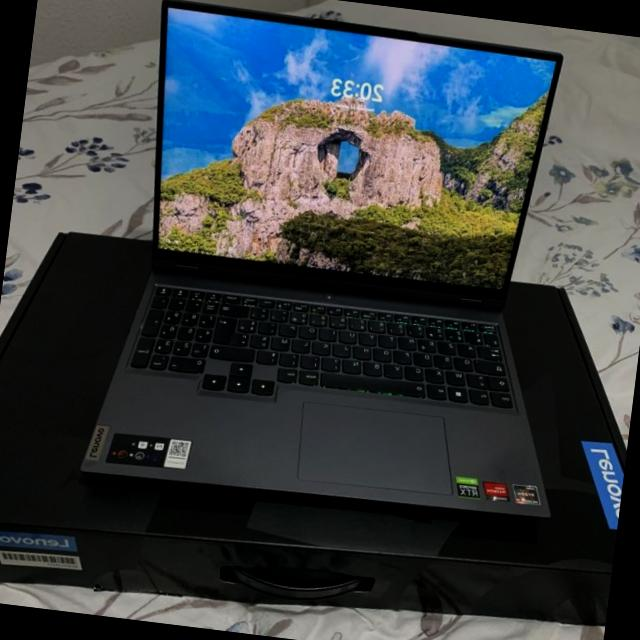laptop: (81, 0, 604, 536)
